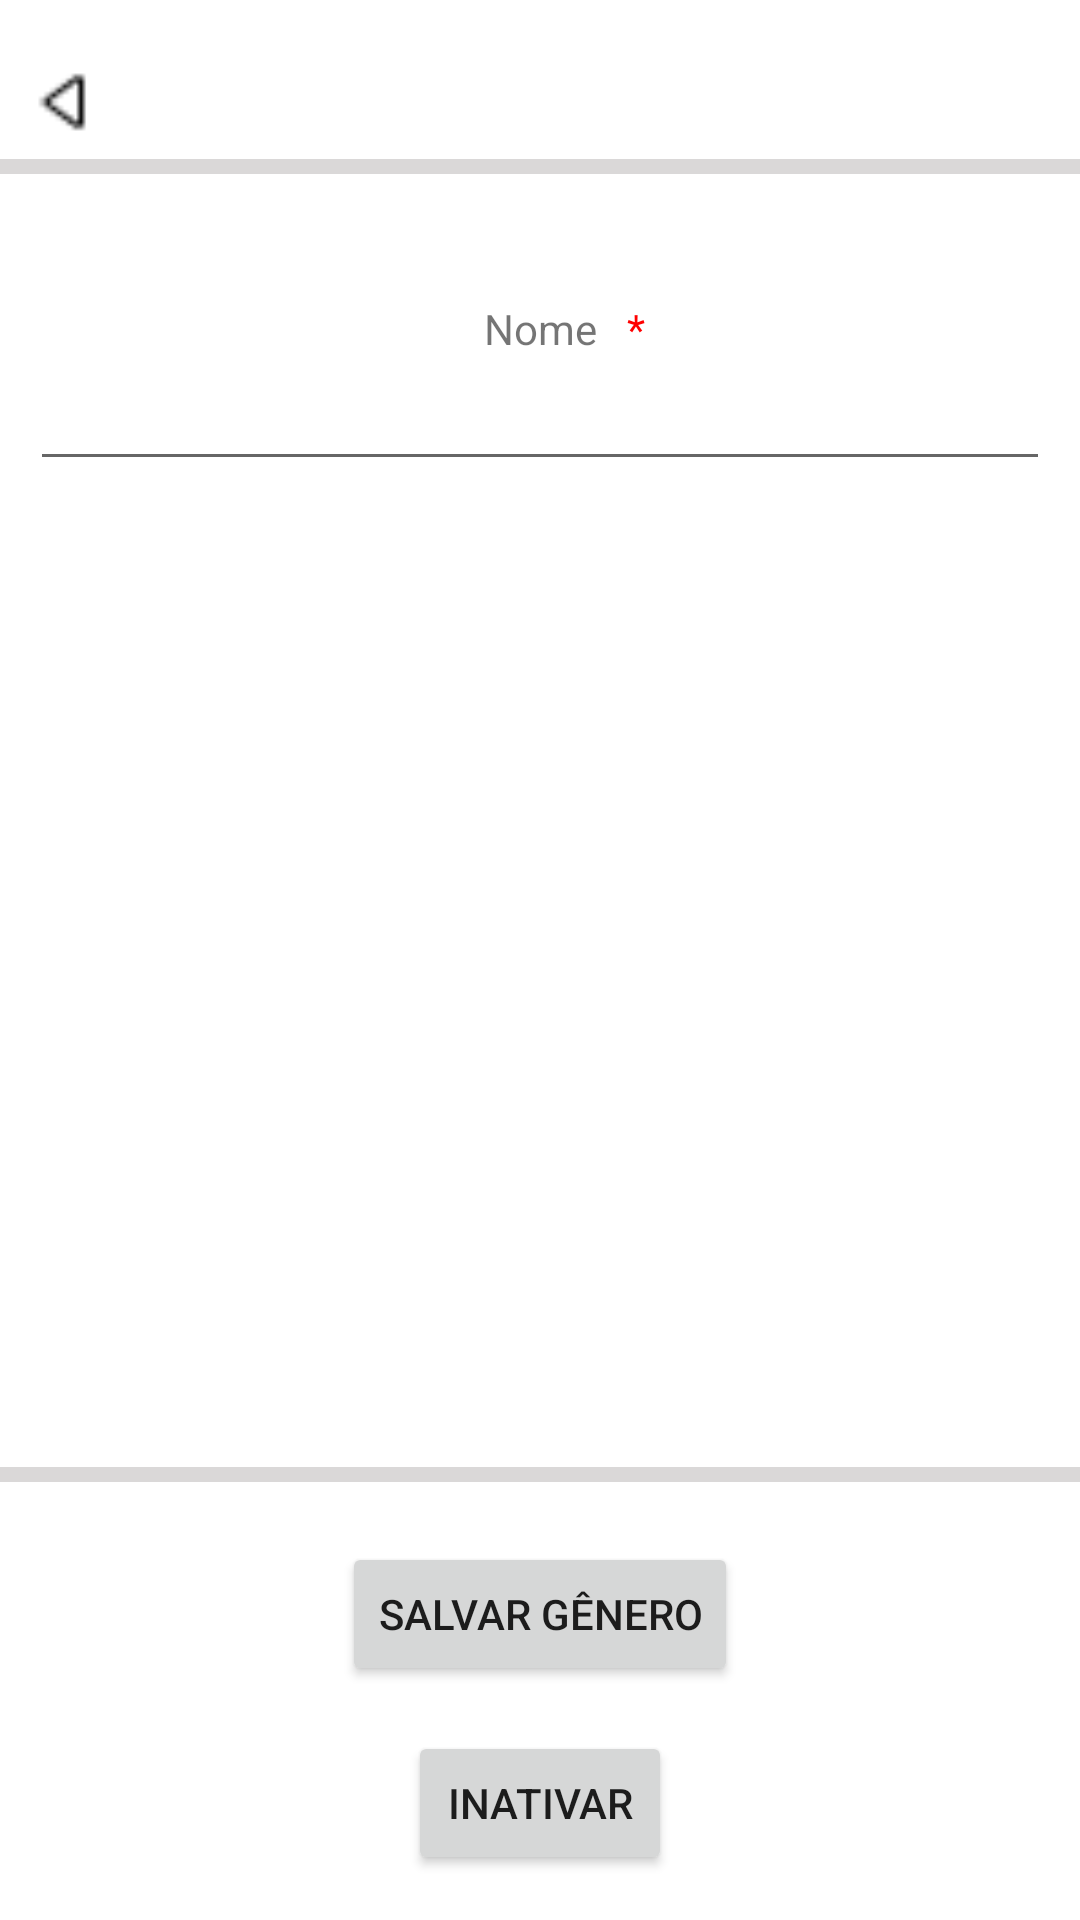

Icon bounding boxes for this 1080 × 1920 phone screenshot, format (x1, y1, x2, y2):
arrow left: (39, 73, 86, 131)
